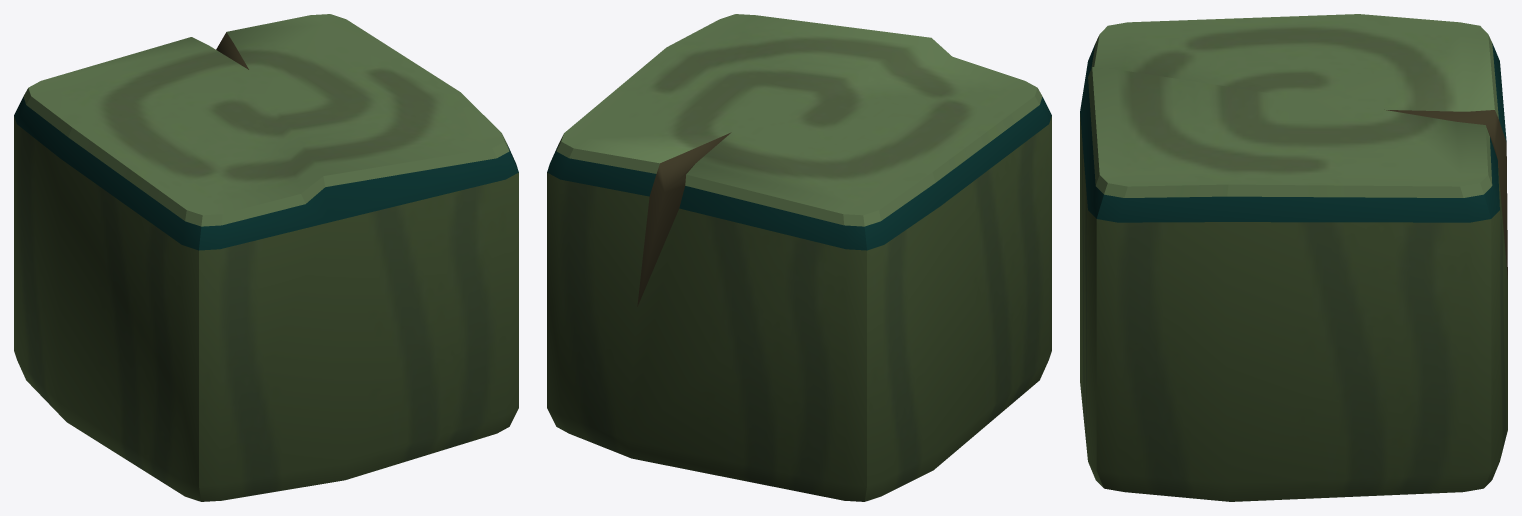
The model's file is shrub.FBX.
The picture shows the model from 3 angles, left to right: view 1: azimuth 30°, elevation 25°; view 2: azimuth 150°, elevation 25°; view 3: azimuth 270°, elevation 25°; orthographic projection. The views are drawn at different scales.
Parts seen in each view (by area): view 1: shrub; view 2: shrub; view 3: shrub.
Part boxes in pixels (x1=…): shrub: x1=14, y1=14, x2=518, y2=501; shrub: x1=547, y1=14, x2=1051, y2=501; shrub: x1=1080, y1=14, x2=1507, y2=501.
Size of the model in its own units: 42.48 by 36.72 by 42.48.
